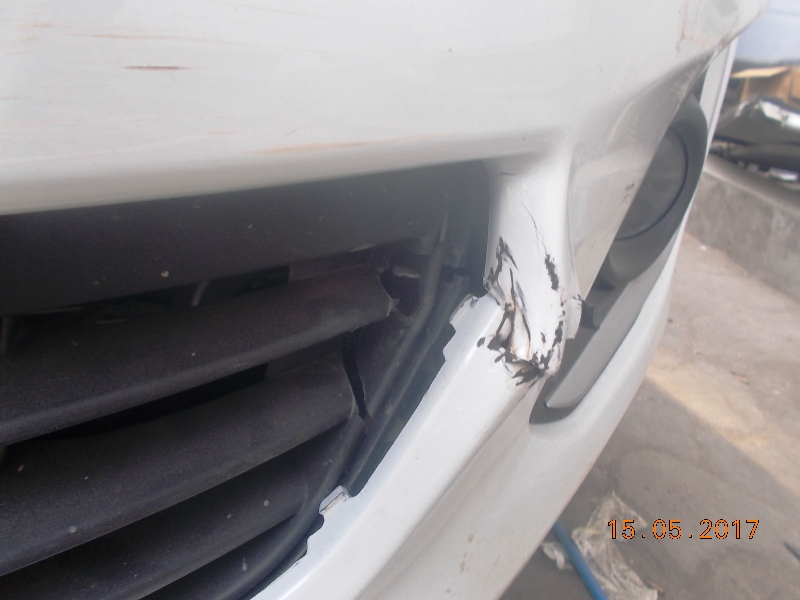Scratch_or_spot: (480, 233, 563, 374)
